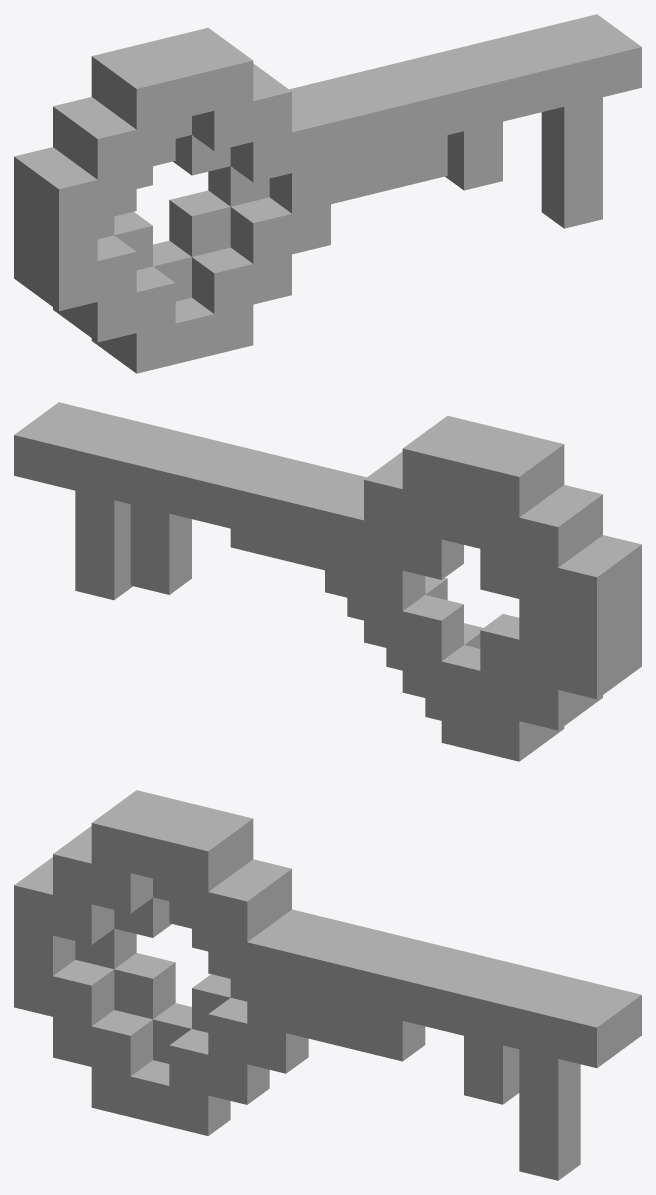
Rendered from SilverKey.obj.
The picture shows the model from 3 angles, top to bottom: view 1: azimuth 30°, elevation 25°; view 2: azimuth 150°, elevation 25°; view 3: azimuth 330°, elevation 25°; orthographic projection.
Visible parts, largest first — view 1: SilverKey; view 2: SilverKey; view 3: SilverKey.
Boxes of the visible parts, x1=… form: SilverKey: x1=14, y1=14, x2=641, y2=373; SilverKey: x1=14, y1=402, x2=641, y2=761; SilverKey: x1=14, y1=790, x2=641, y2=1180.
Bounding box in the file's own units: 15 × 7 × 2.
Materials: 1 (1 with a texture image).
